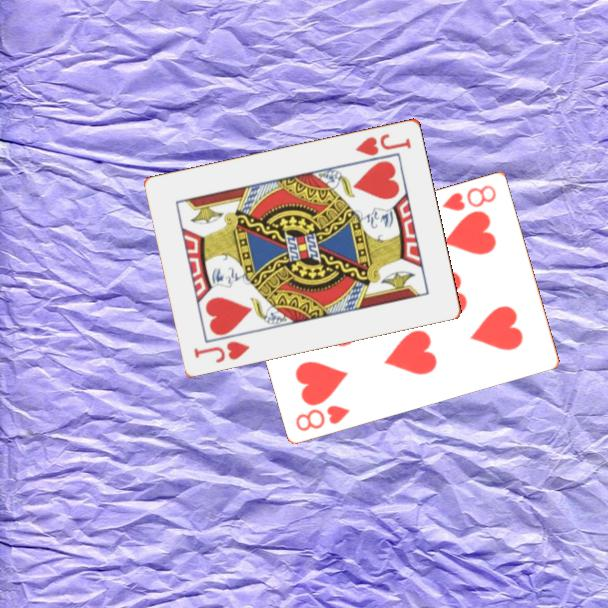h08: (292, 401, 353, 434), (439, 181, 499, 214)
h11: (352, 129, 414, 158), (190, 337, 253, 365)
